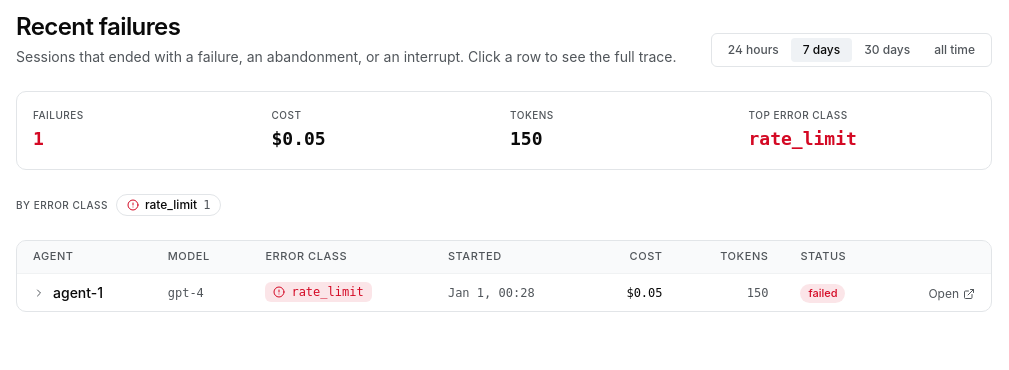
Test: Failures page › collapses a row on a second click
Click the row with test id "failure-row-a": (504, 292) [17,273,991,311]
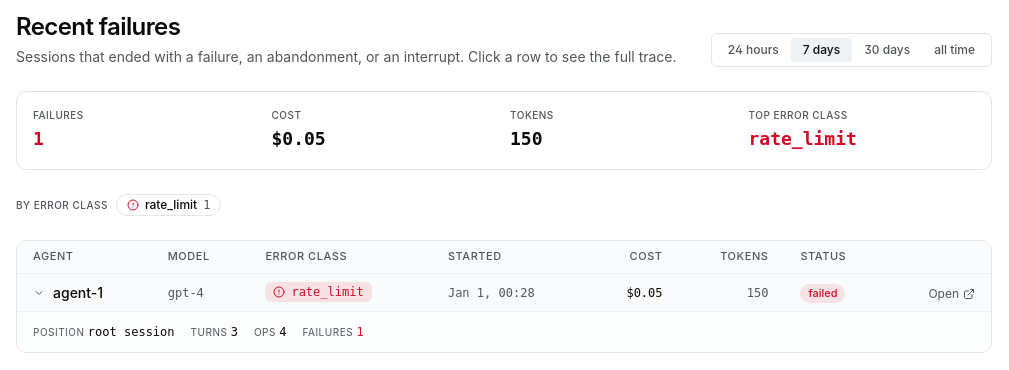
Expected: the text "root session" is shown, [88,325,174,339]
Click the row with test id "failure-row-a": (504, 293) [17,273,991,312]
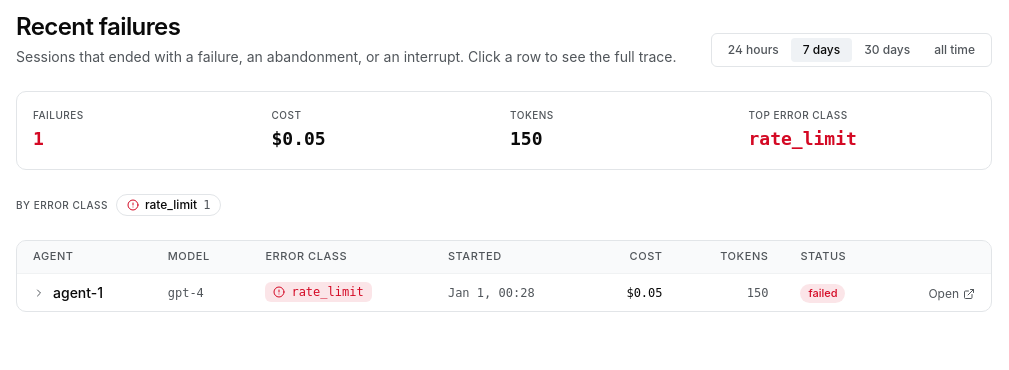
Expected: the text "root session" is gone
